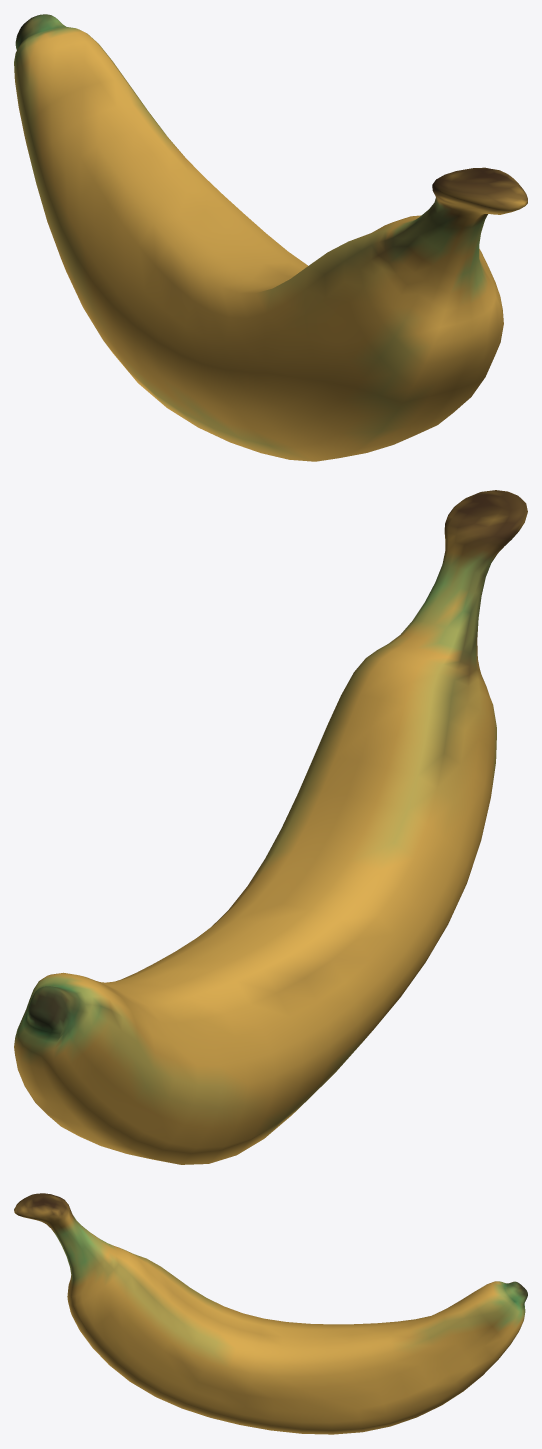
Rendered from Banana.glb.
3 renders of one model, top to bottom at view 1: azimuth 30°, elevation 25°; view 2: azimuth 150°, elevation 25°; view 3: azimuth 270°, elevation 25°, orthographic. The views are drawn at different scales.
Visible parts, largest first — view 1: Banana; view 2: Banana; view 3: Banana.
Part boxes in pixels (x1,y1,x2,y2): Banana: (14, 14, 527, 461); Banana: (14, 490, 527, 1164); Banana: (14, 1193, 527, 1434).
Bounding box in the file's own units: 0.2159 × 0.5313 × 1.09.
